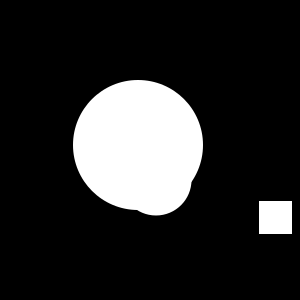circle: (259, 201, 292, 234)
rectangle: (73, 80, 203, 210), (120, 144, 192, 215), (120, 128, 169, 176)
